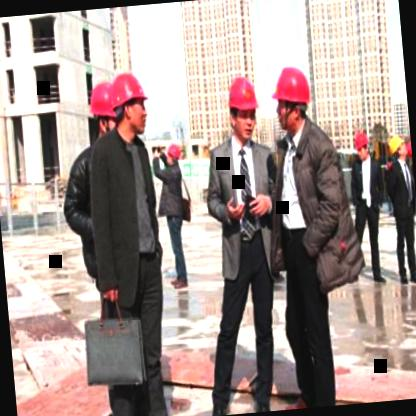helmet: (269, 61, 315, 138), (104, 68, 151, 140), (224, 72, 262, 144), (86, 80, 120, 146), (382, 135, 409, 165), (352, 128, 374, 164), (164, 139, 184, 169), (406, 136, 412, 163)
